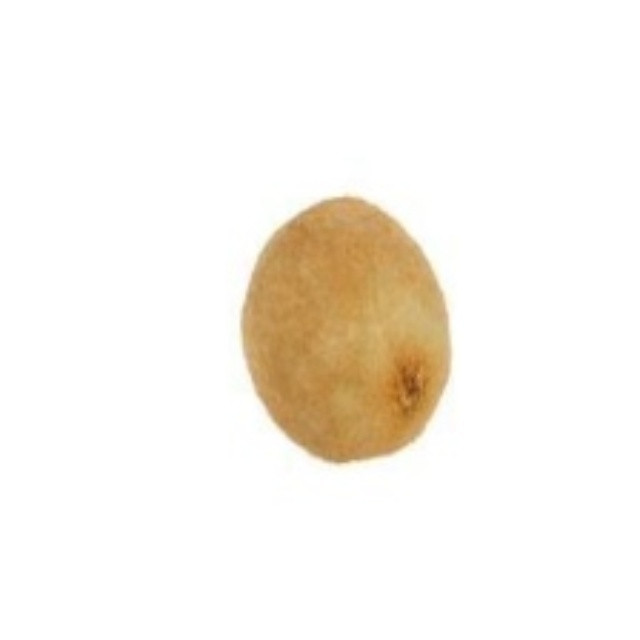kiwi: (242, 193, 470, 470)
